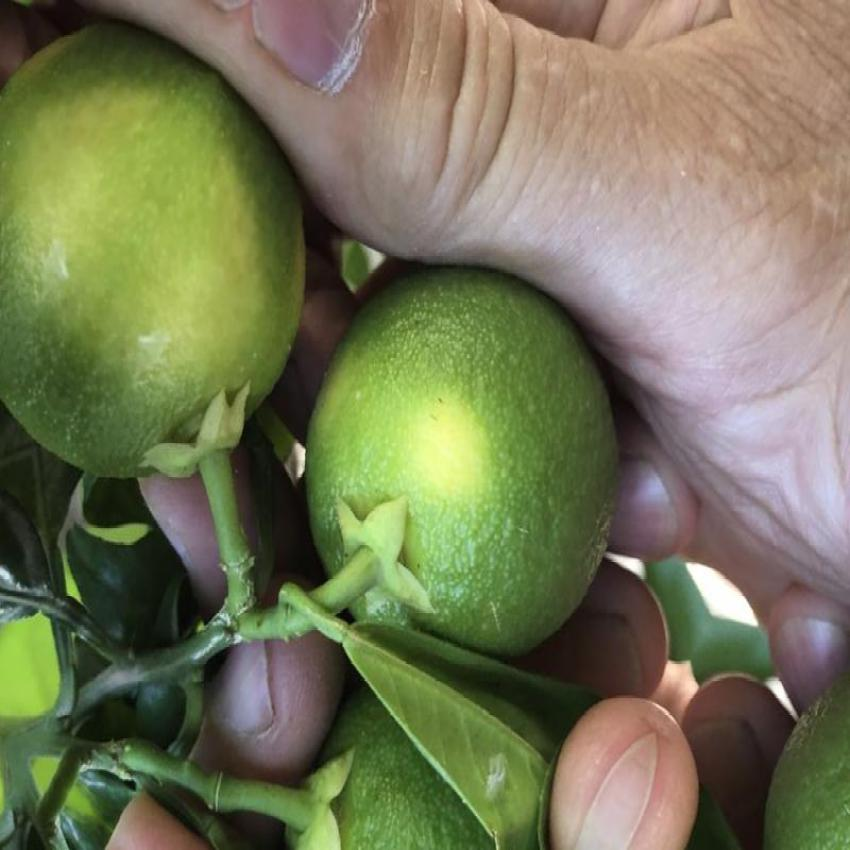Mal estado: (297, 231, 642, 681), (0, 22, 312, 471)
